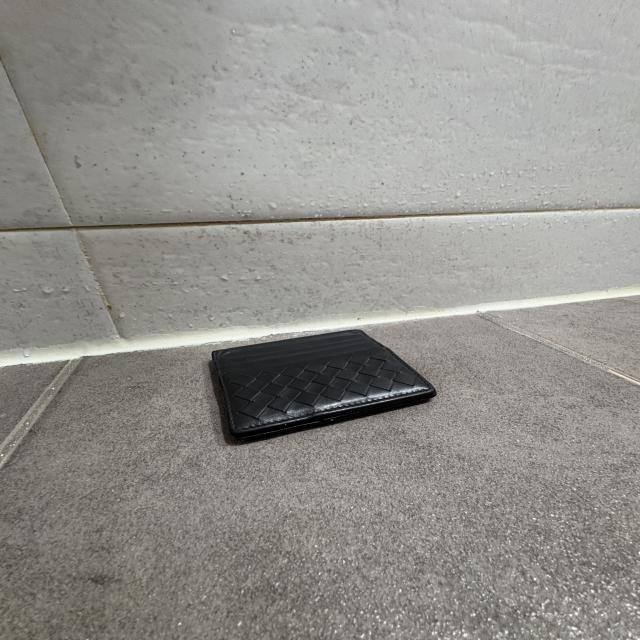wallet: (206, 328, 437, 446)
